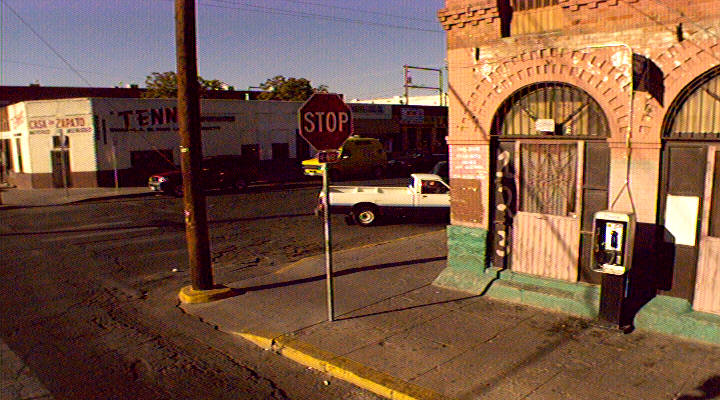Ramp: (178, 289, 355, 351), (206, 247, 371, 306), (12, 192, 77, 212)
